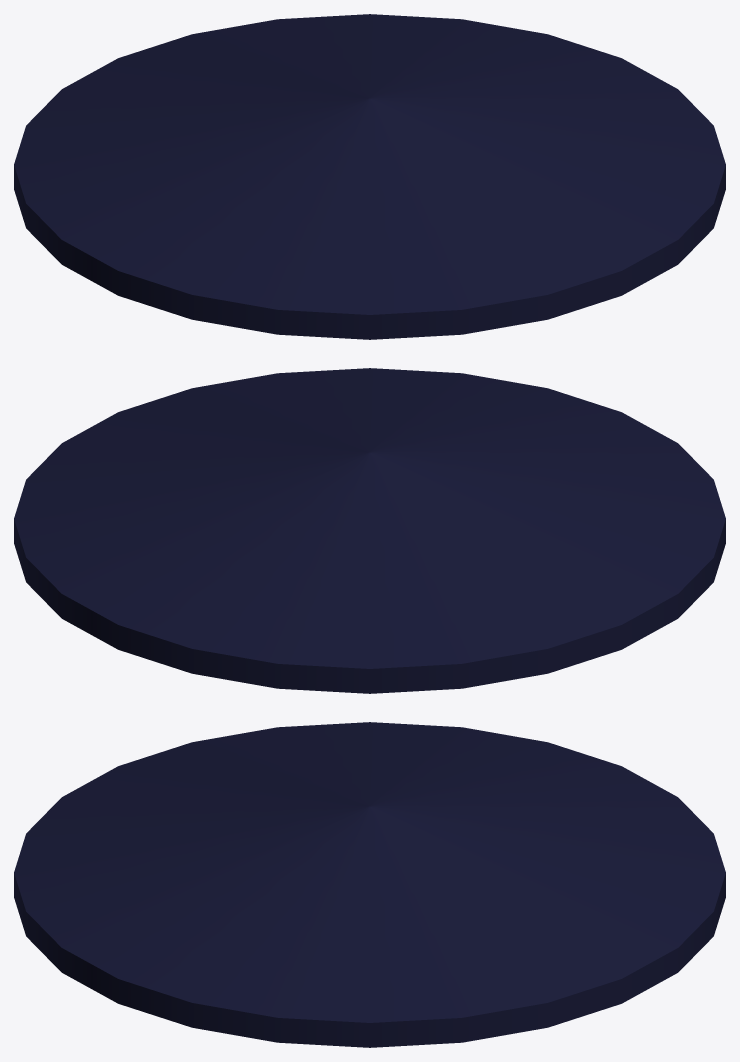
The model's file is ufo01 whole.FBX.
3 views of the same model, one above another, from view 1: azimuth 30°, elevation 25°; view 2: azimuth 150°, elevation 25°; view 3: azimuth 270°, elevation 25° (orthographic).
Parts seen in each view (by area): view 1: ufo003; view 2: ufo003; view 3: ufo003.
Boxes of the visible parts, x1=… form: ufo003: x1=14, y1=14, x2=725, y2=339; ufo003: x1=14, y1=368, x2=725, y2=693; ufo003: x1=14, y1=722, x2=725, y2=1047.
Bounding box in the file's own units: 5.52 × 1.5 × 5.52.
